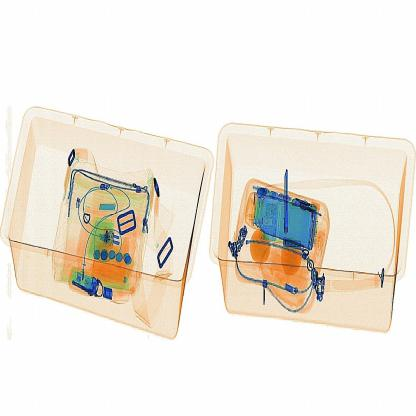pliers: (278, 158, 299, 237)
